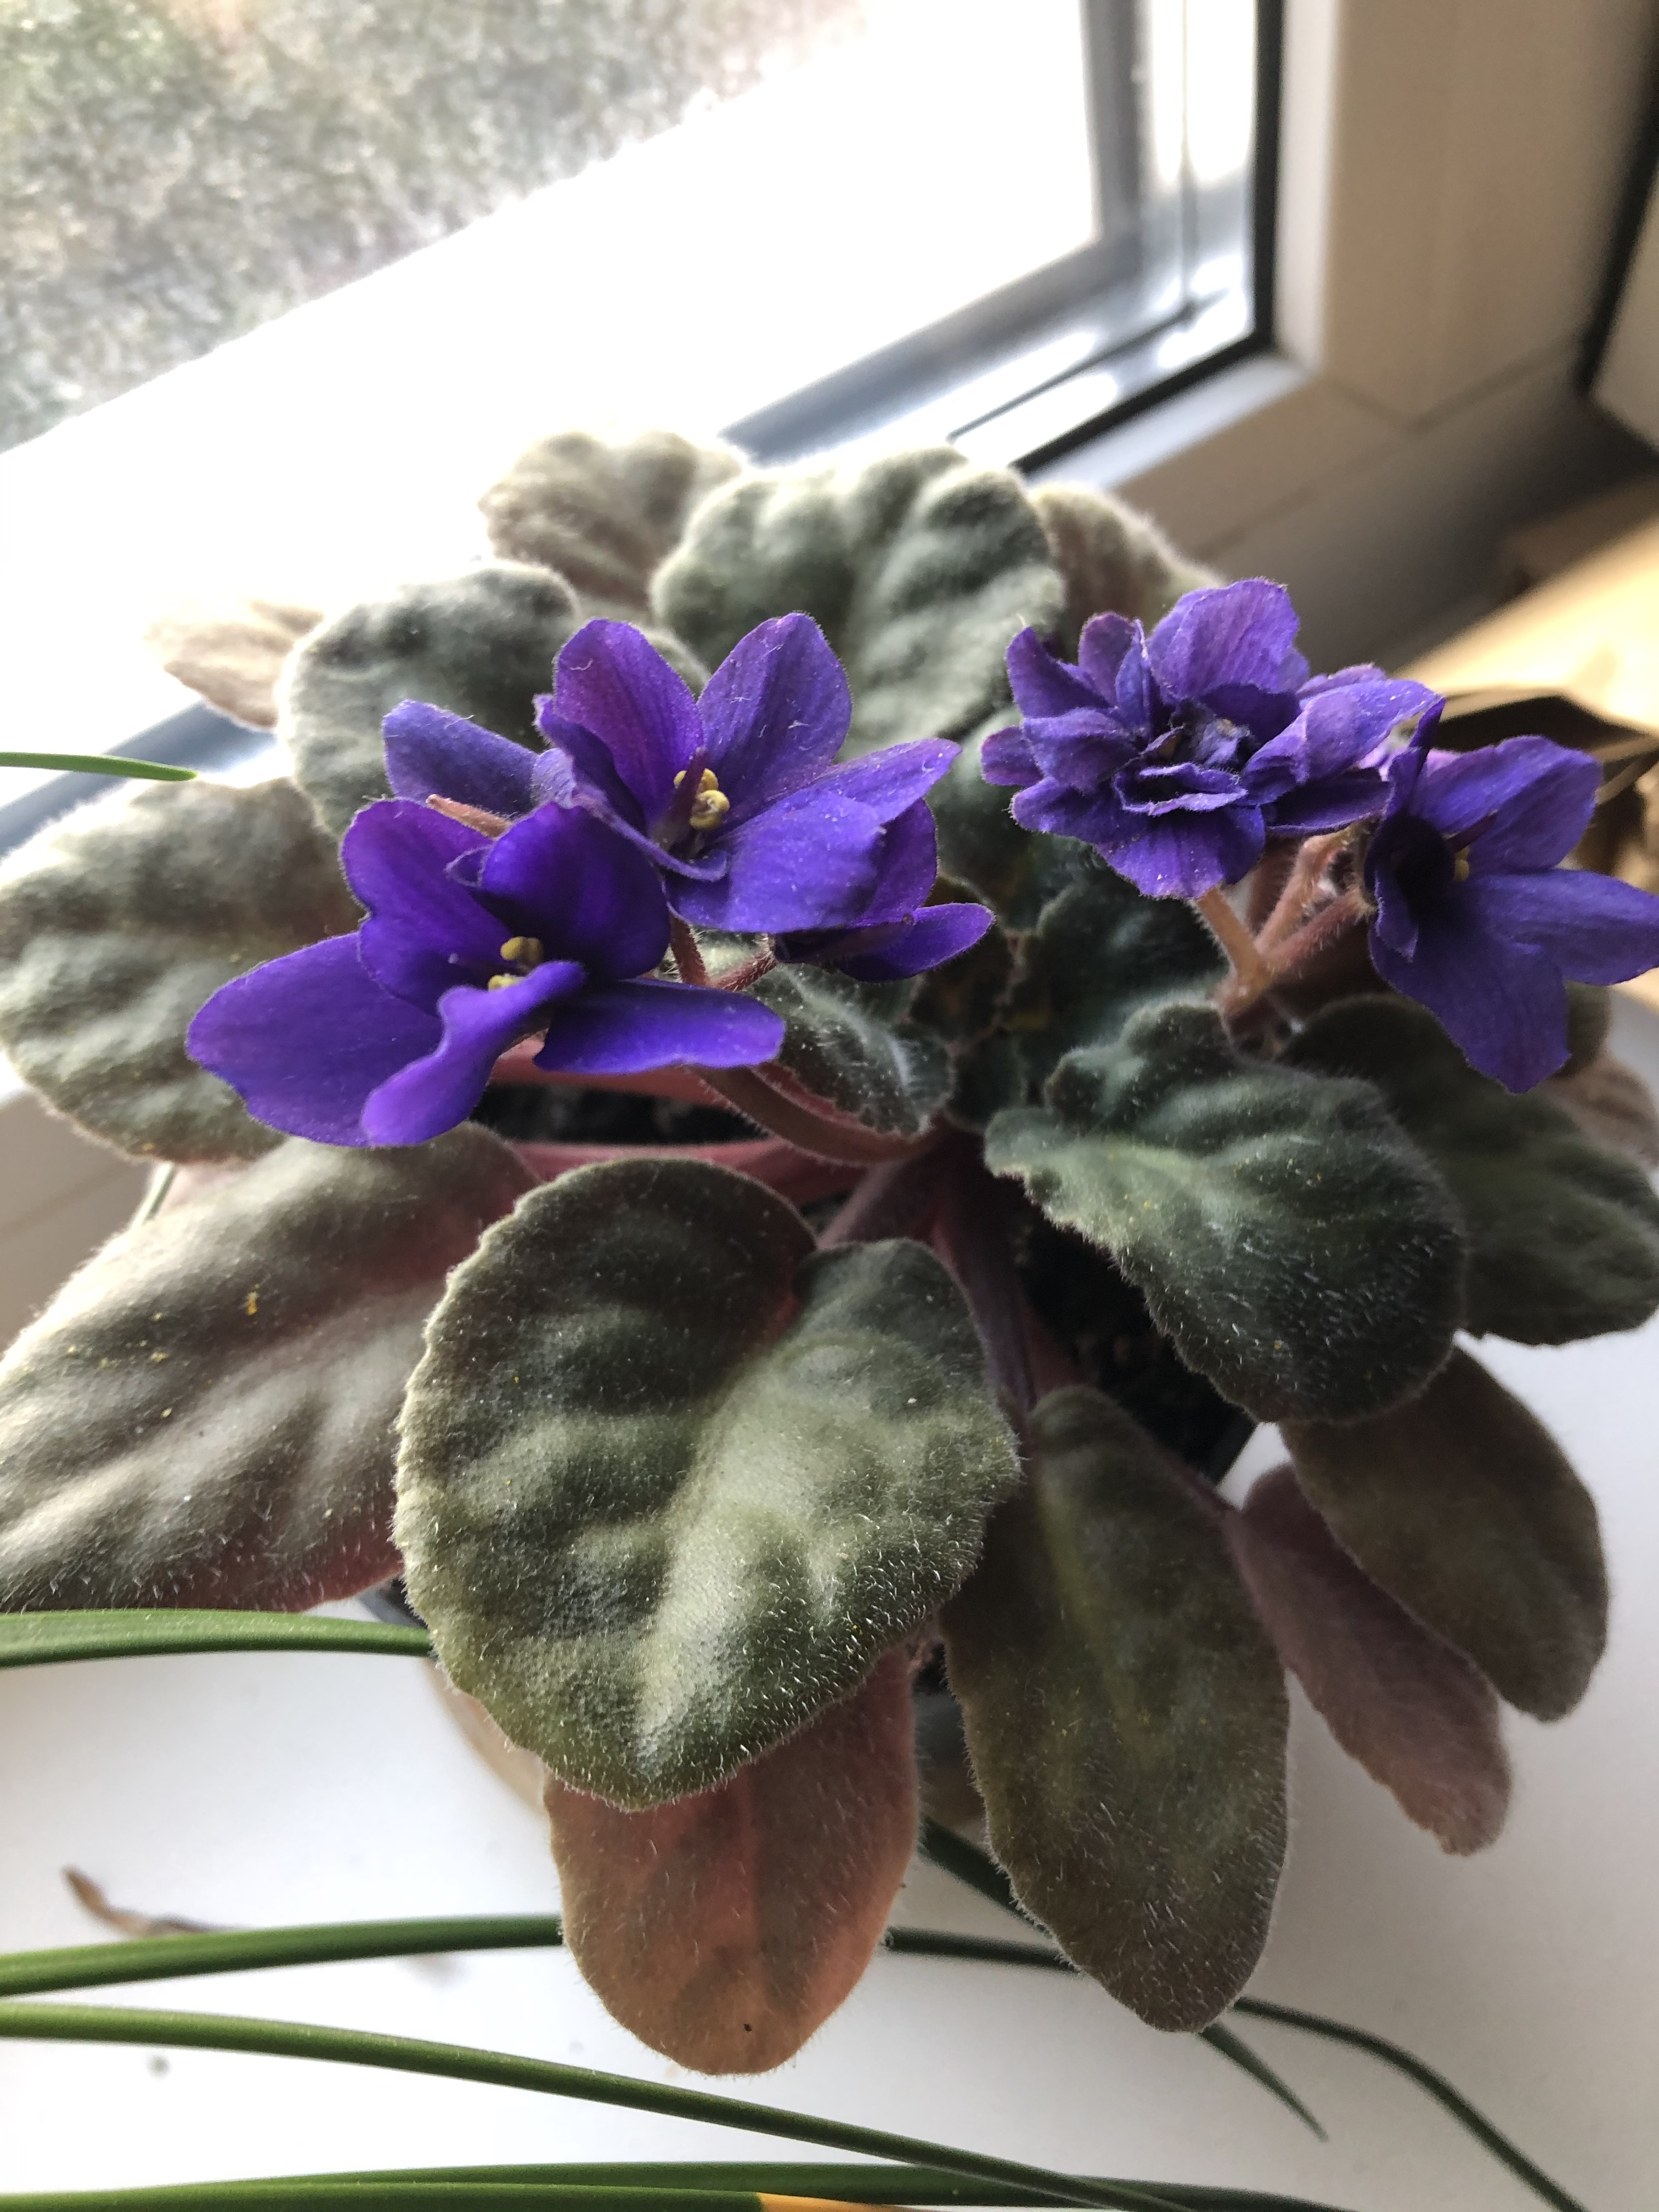ignore: (19, 361, 1615, 1904)
